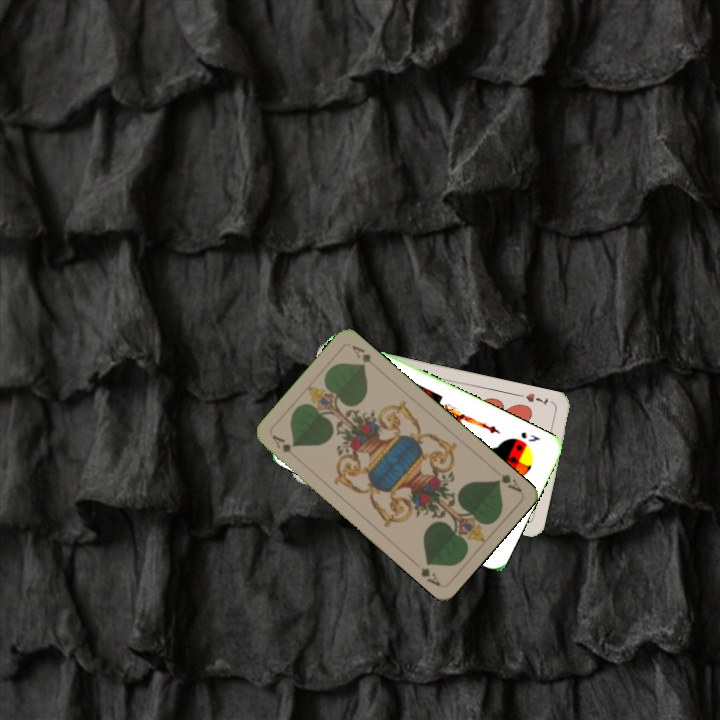GA: (492, 470, 524, 495), (268, 431, 296, 455)
H7: (522, 389, 551, 408)
SK: (516, 428, 543, 444)
